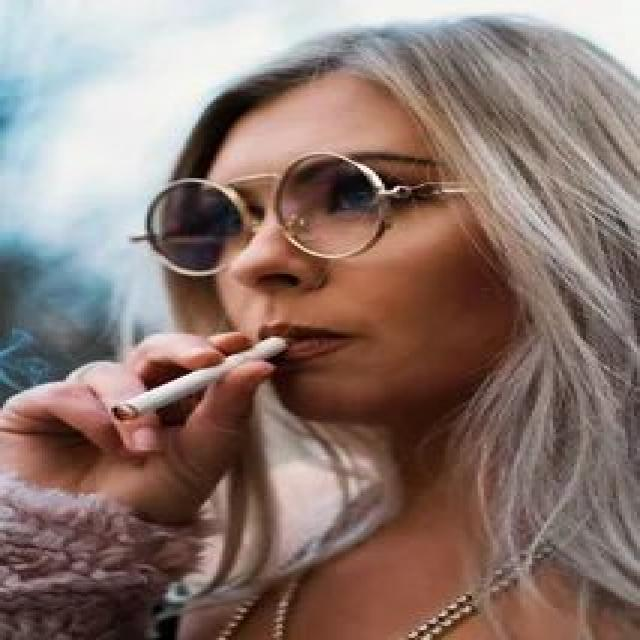smoke: (102, 330, 307, 424)
